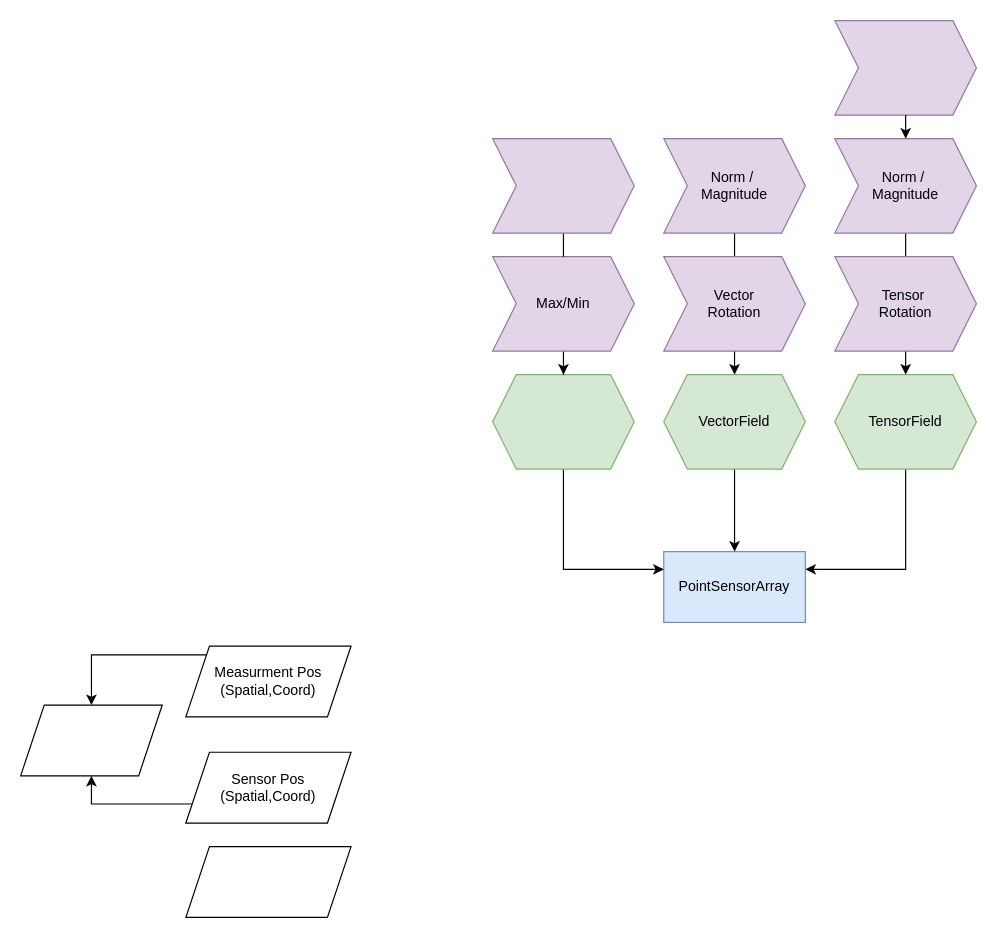
This 997x938 diagram has some shape labels left out. Each missing label, with the box of its shape:
Invariants: (834, 19, 976, 115)
Line of Sight (Spatial,Vector): (19, 704, 162, 776)
Measurement Times (Time): (185, 845, 351, 917)
ScalarField: (491, 373, 634, 469)
Stats: Avg,Std,Med: (491, 137, 634, 233)
